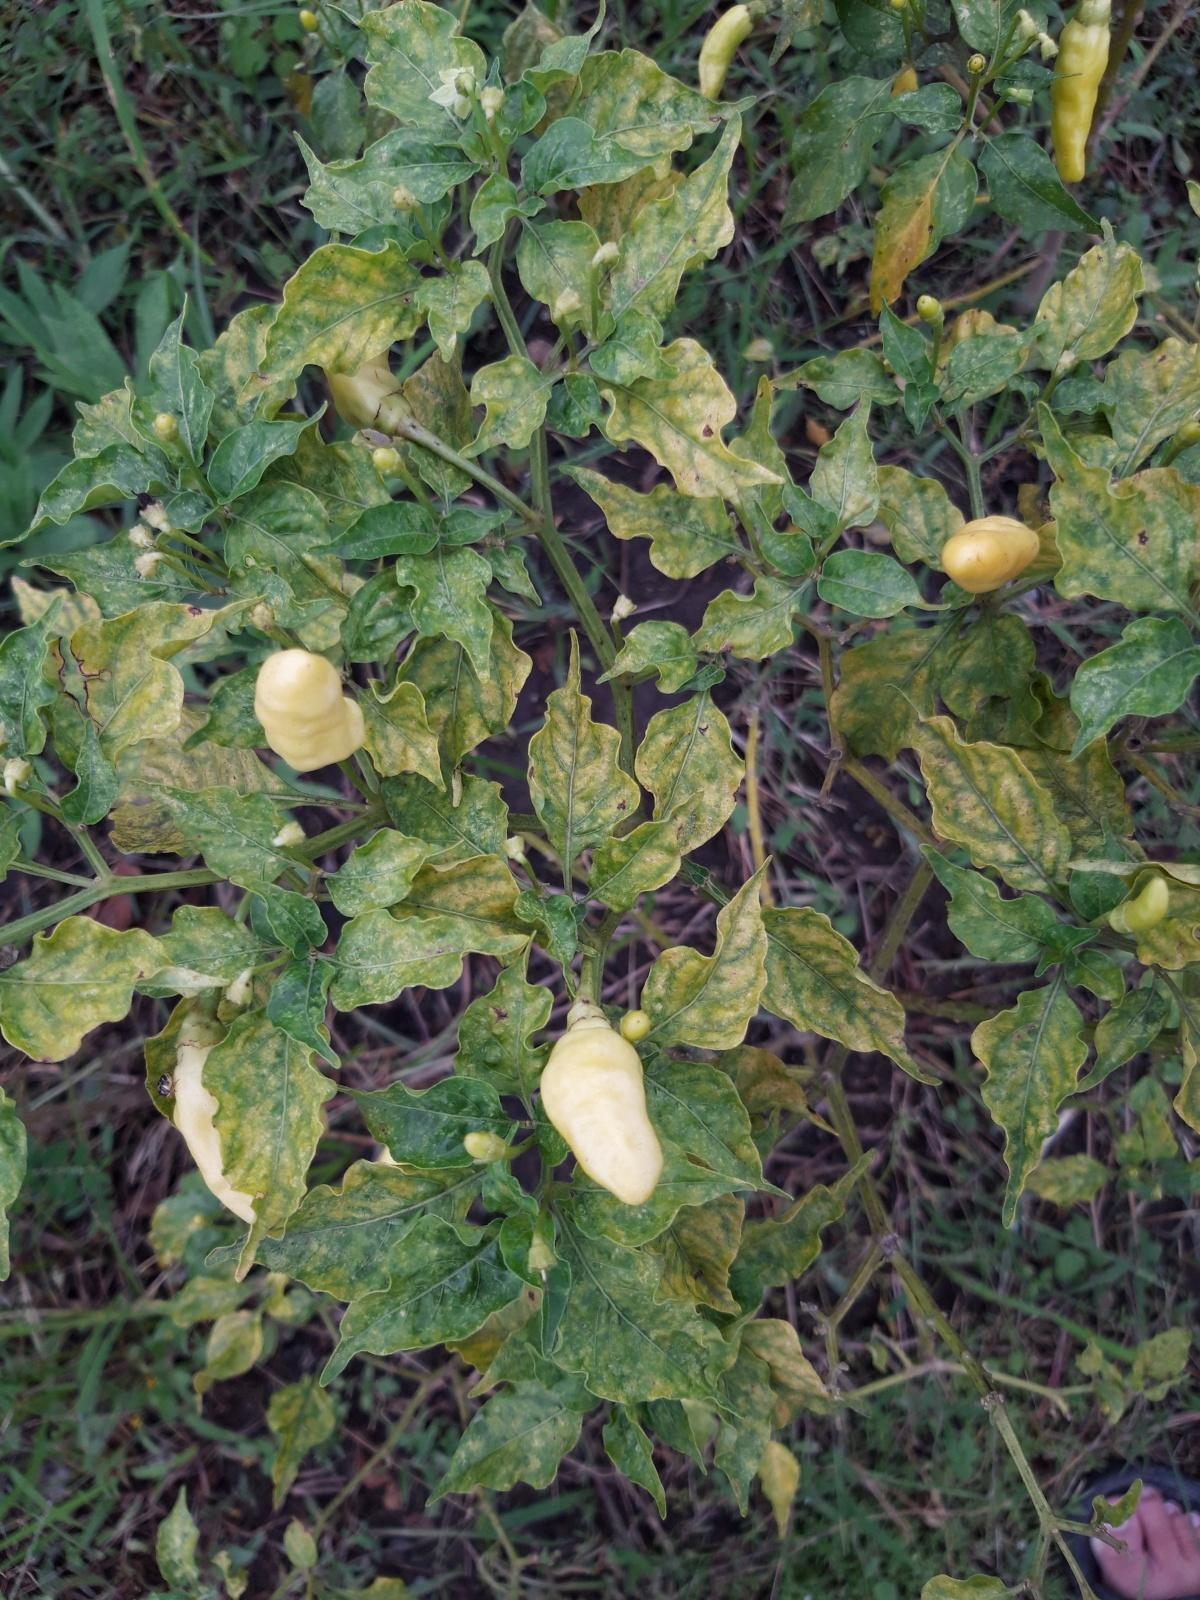cabai_normal: (538, 1020, 663, 1206), (252, 650, 367, 771), (1050, 18, 1112, 185), (942, 517, 1039, 593), (698, 10, 755, 105)
